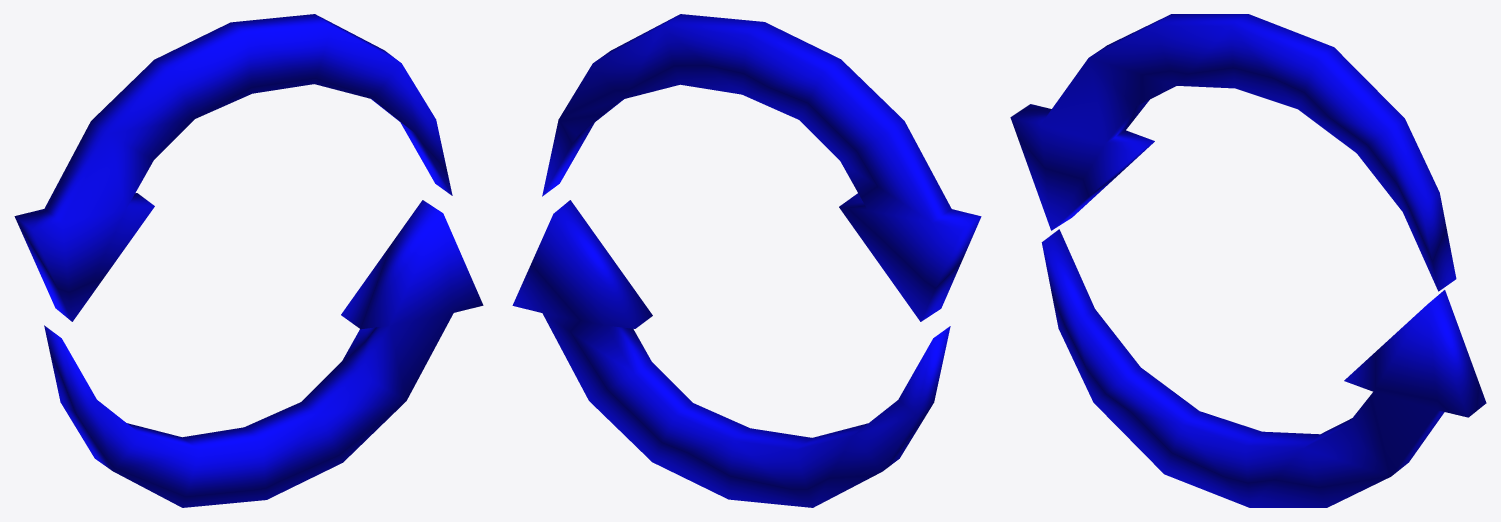
File: Changer_Rot_Sword.fbx
3 views of the same model, side by side, from view 1: azimuth 30°, elevation 25°; view 2: azimuth 150°, elevation 25°; view 3: azimuth 330°, elevation 25° (orthographic).
Visible parts, largest first — view 1: Changer_Rot_Sword; view 2: Changer_Rot_Sword; view 3: Changer_Rot_Sword.
Part boxes in pixels (x1=…): Changer_Rot_Sword: x1=14, y1=14, x2=483, y2=507; Changer_Rot_Sword: x1=512, y1=14, x2=981, y2=507; Changer_Rot_Sword: x1=1010, y1=14, x2=1486, y2=507.
Bounding box in the file's own units: 143 × 143 × 10.36.
Materials: 1 (1 with a texture image).
